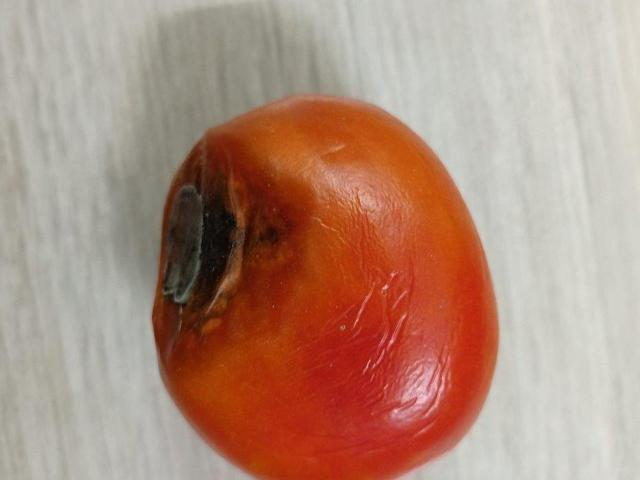defect: (149, 88, 501, 480)
